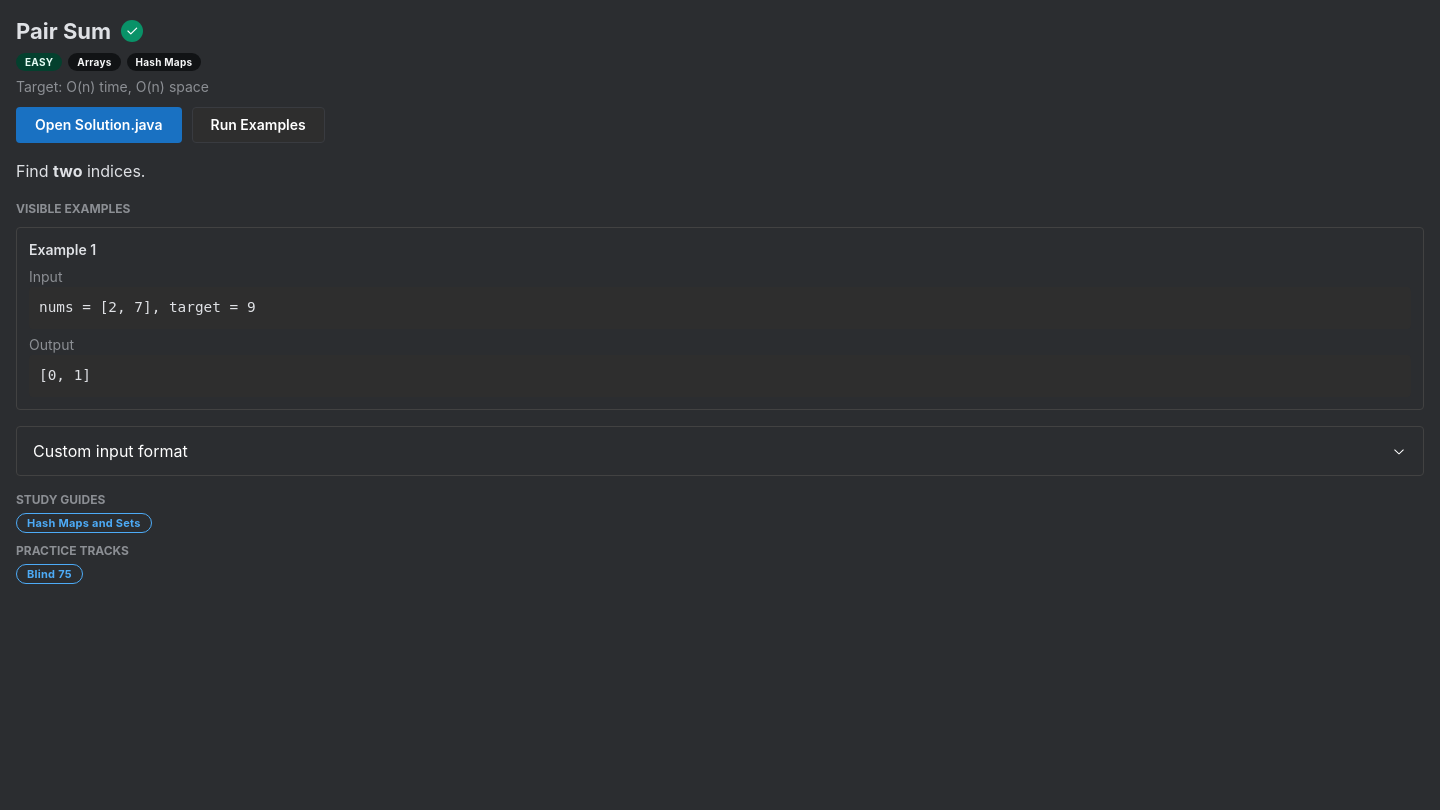
App › falls back to execCommand when clipboard.writeText rejects and hides Copied when copy fails
Later steps or results of the test are not shown.
Click the button "Custom input format".
click(110, 451)  # box [17,427,1423,475]
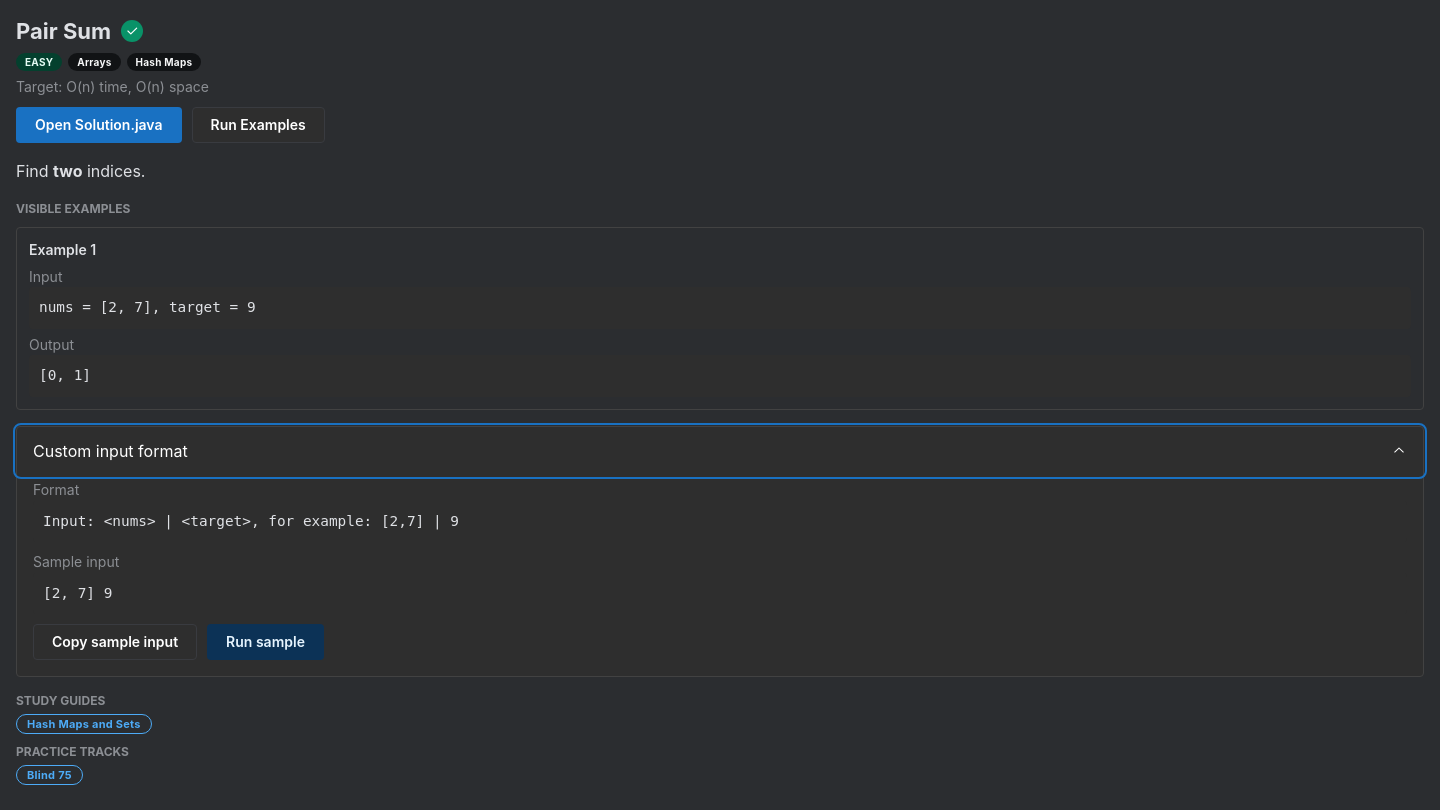
Click the button "Copy sample input".
click(115, 642)  # box [33,624,197,660]
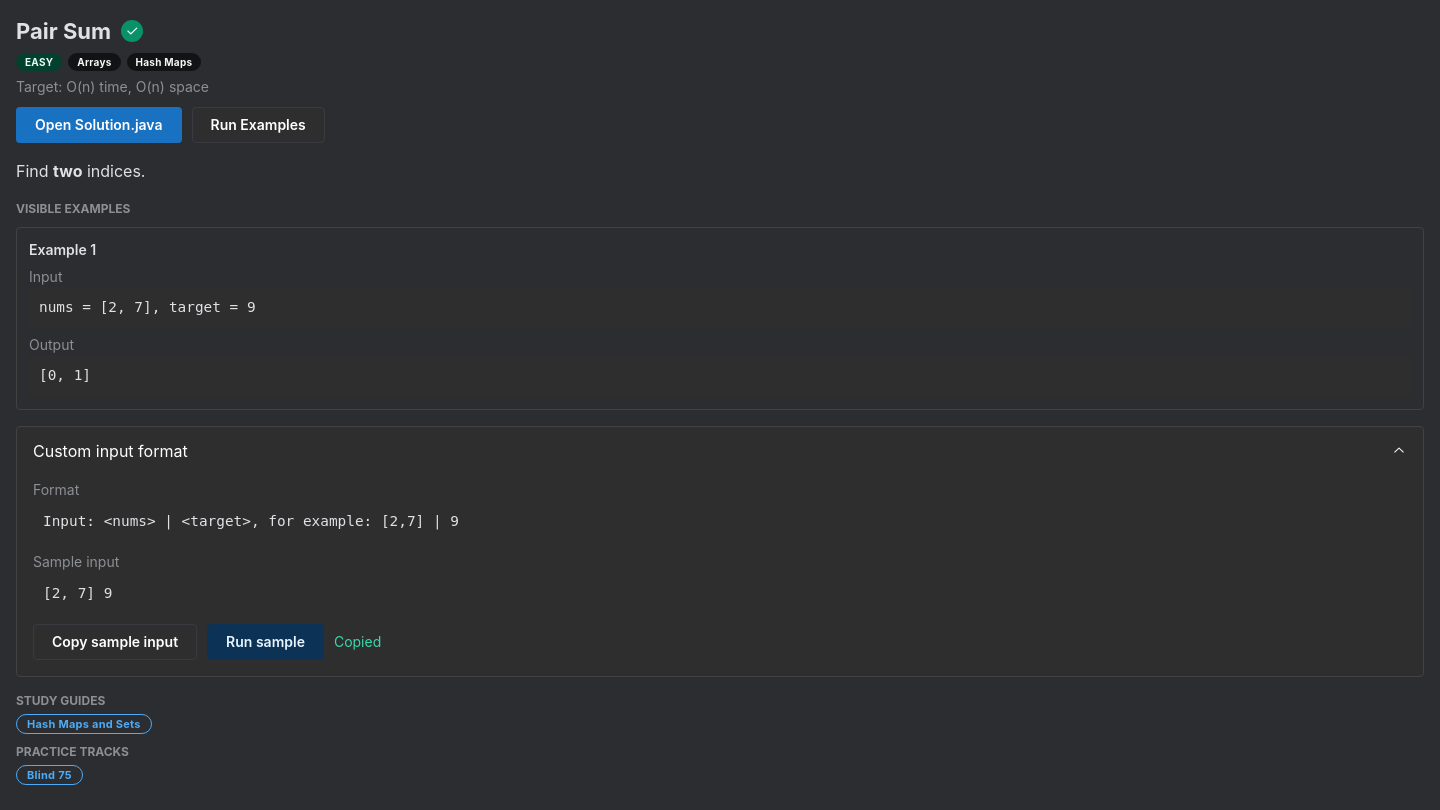
Check: the text "Copied" is shown, box [334,632,381,652]
